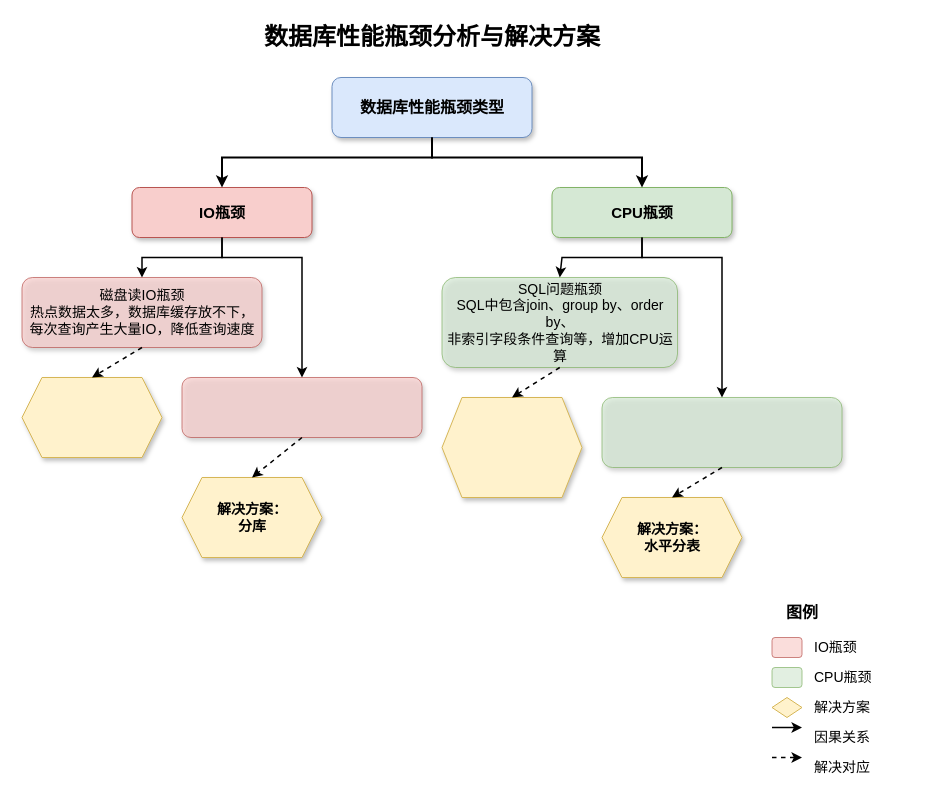
Image size: 929x799. Some labels were removed from this diagram. Here are the shapes that lost their labels. From the top down, the centre of each, then its label:
[92,418]: 解决方案： 分库和垂直分表
[302,408]: 网络IO瓶颈 请求的数据太多，网络带宽不够
[512,448]: 解决方案： SQL优化 建立合适索引 业务代码计算
[722,433]: 数据量瓶颈 单表数据量太大，查询时扫描行太多， SQL效率低，CPU率先出现瓶颈
